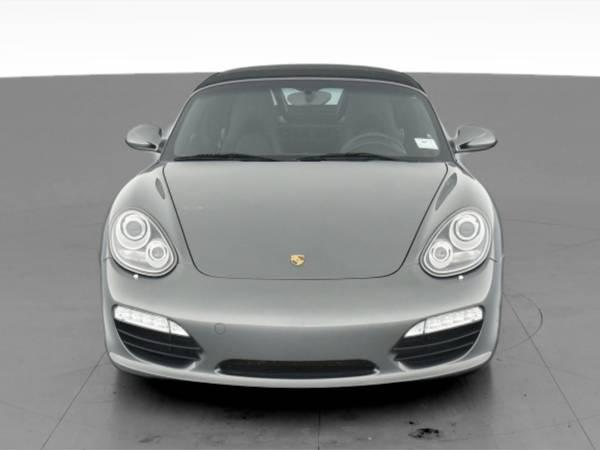Front_Bumper: (102, 256, 501, 386)
Front_Windshield: (162, 79, 454, 162)
Hood: (100, 159, 502, 279)
Left_Headlight: (421, 205, 493, 276)
Left_Mirror: (453, 124, 497, 153)
Right_Headlight: (105, 210, 176, 281)
Right_Mirror: (122, 123, 163, 151)
Roof: (192, 63, 427, 94)
